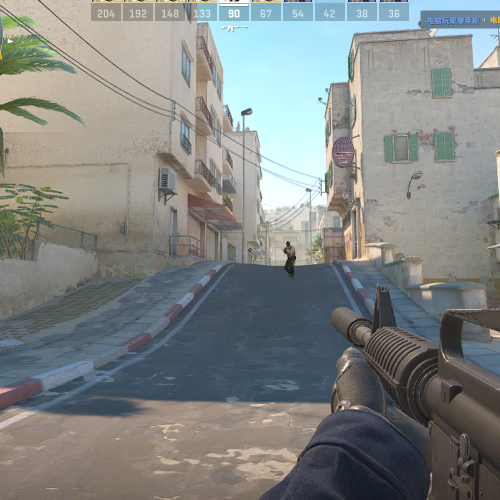t_body: (283, 240, 296, 280)
t_head: (285, 240, 291, 248)
